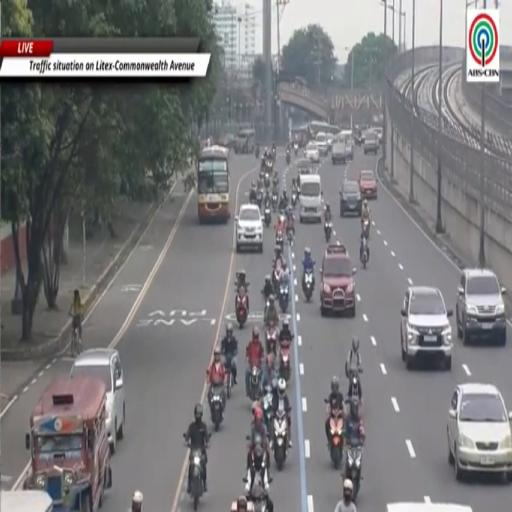bus: (197, 146, 230, 222), (309, 122, 339, 138)
car: (448, 383, 511, 479), (71, 348, 125, 453), (400, 286, 453, 371), (456, 269, 506, 345), (320, 243, 356, 317), (236, 204, 263, 252), (340, 181, 362, 217), (387, 502, 472, 511), (359, 170, 377, 199), (296, 158, 315, 185), (331, 138, 346, 164), (304, 141, 320, 163), (363, 132, 379, 154), (315, 133, 329, 156), (373, 127, 383, 145), (346, 138, 353, 159), (327, 134, 333, 150)
jeepney: (24, 377, 111, 511), (0, 490, 55, 511)
motorcycle: (345, 442, 362, 502), (273, 409, 288, 471), (189, 451, 204, 510), (330, 409, 343, 469), (248, 472, 267, 511), (261, 384, 273, 435), (210, 386, 223, 431), (348, 368, 362, 406), (236, 288, 248, 328), (279, 342, 290, 382), (249, 365, 261, 401), (266, 321, 278, 356), (303, 270, 314, 301), (272, 261, 281, 295), (225, 355, 232, 398), (279, 283, 289, 312), (360, 237, 368, 268), (264, 202, 272, 228), (325, 221, 332, 243), (276, 230, 283, 251), (362, 218, 369, 238), (256, 190, 263, 209), (272, 190, 278, 212), (249, 188, 257, 204), (287, 227, 293, 246), (291, 191, 297, 208), (264, 173, 270, 189), (267, 158, 273, 173), (272, 148, 276, 163), (286, 151, 290, 165), (294, 143, 298, 155), (255, 147, 259, 158)
